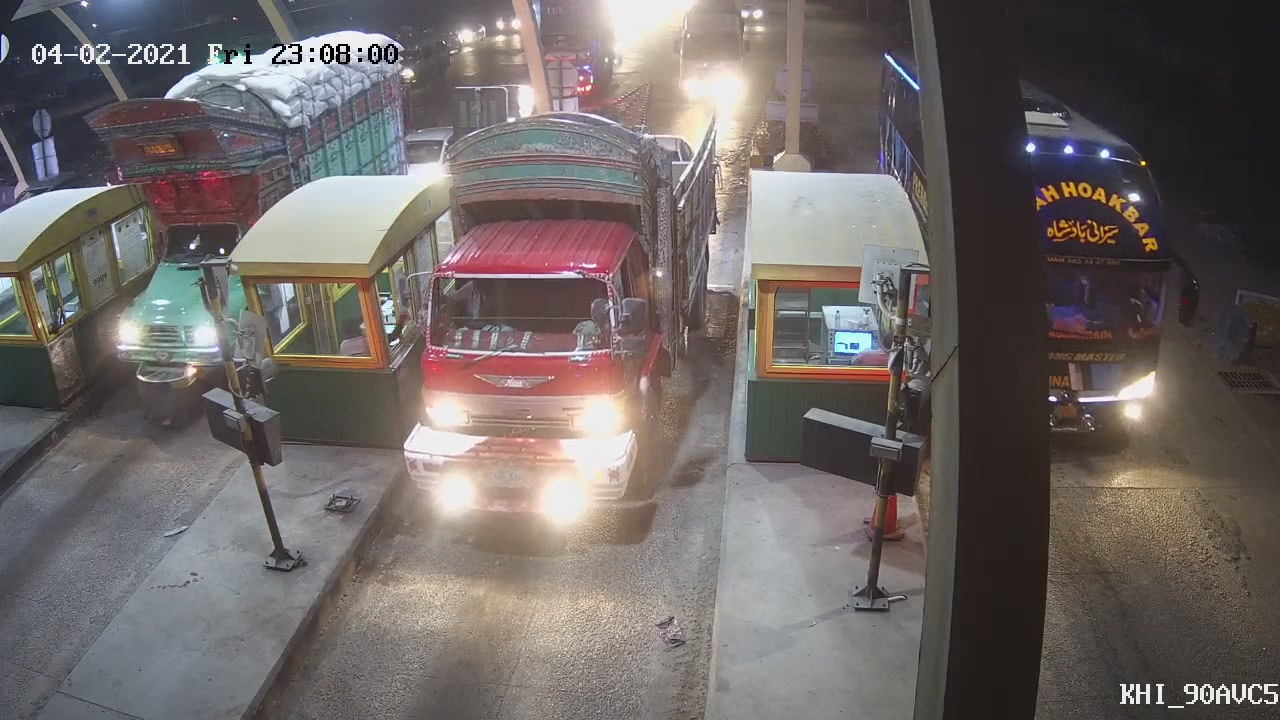F5: (400, 109, 710, 535)
